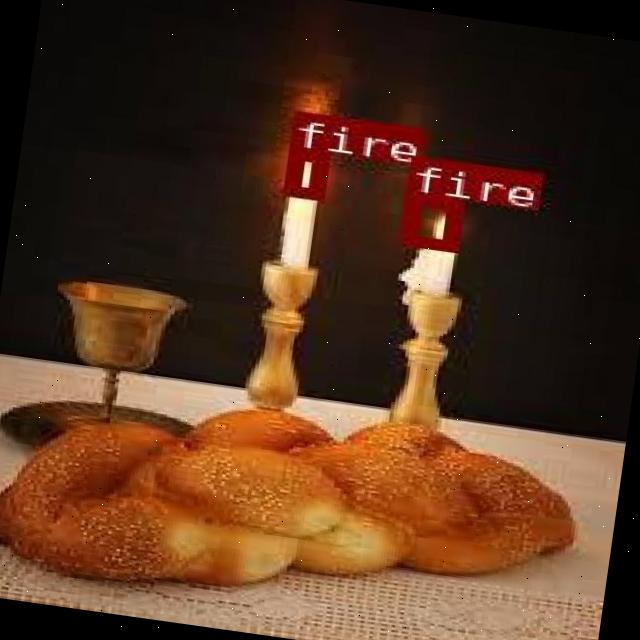fire: (398, 191, 462, 249), (280, 147, 328, 199)
